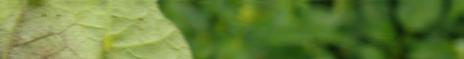Tomato leaf late blight: (0, 0, 294, 59)
